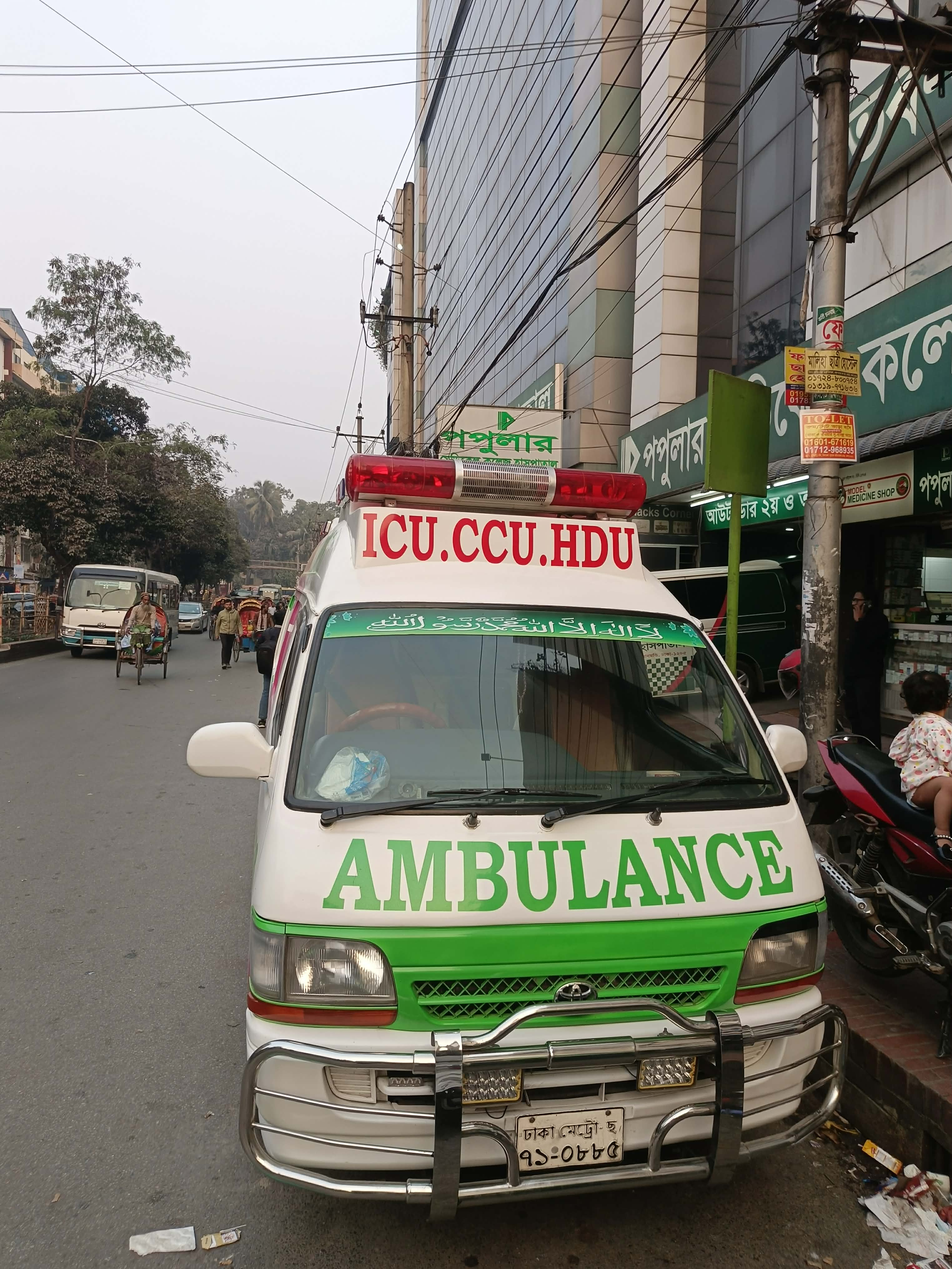Ambulance: (175, 419, 855, 1239)
Bus: (56, 544, 137, 655)
auto-ricksaw: (107, 594, 180, 705)
